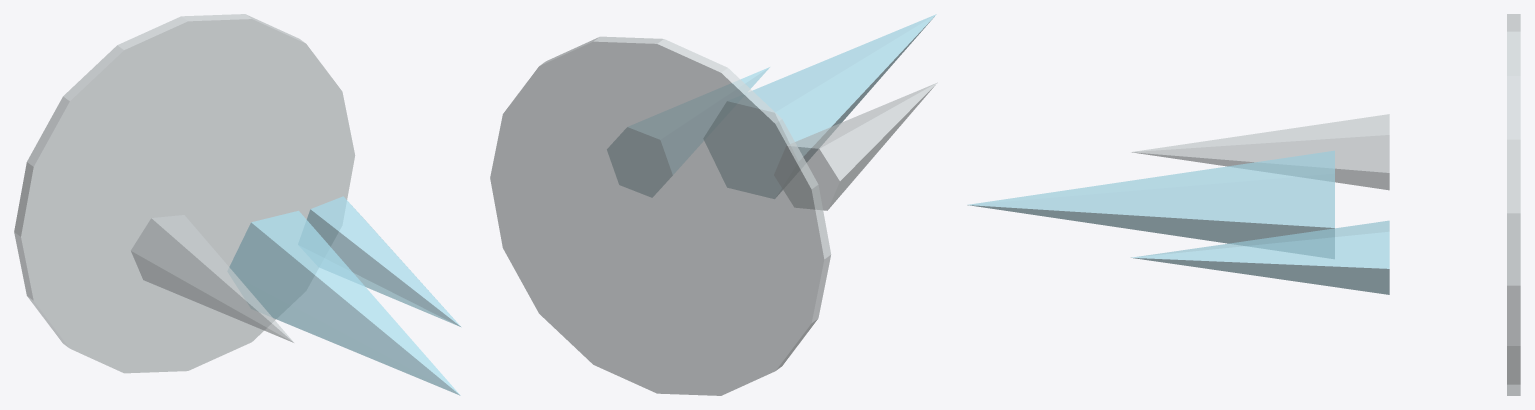
Rendered from vfx_ice_spike_cluster.glb.
3 renders of one model, left to right at view 1: azimuth 30°, elevation 25°; view 2: azimuth 150°, elevation 25°; view 3: azimuth 270°, elevation 25°, orthographic.
Visible parts, largest first — view 1: base, main, left, right; view 2: base, main, left, right; view 3: main, left, right, base.
Boxes of the visible parts, x1,y1,x2,y2 form: base: (14, 14, 354, 373); main: (227, 210, 460, 395); left: (131, 215, 293, 342); right: (298, 196, 461, 327); base: (490, 36, 830, 395); main: (703, 14, 936, 198); left: (774, 83, 936, 210); right: (607, 67, 769, 197); main: (967, 150, 1334, 258); left: (1131, 114, 1389, 190); right: (1131, 220, 1389, 294); base: (1507, 14, 1520, 395).
Size of the model in its own units: 1.4 by 1.4 by 2.03.
